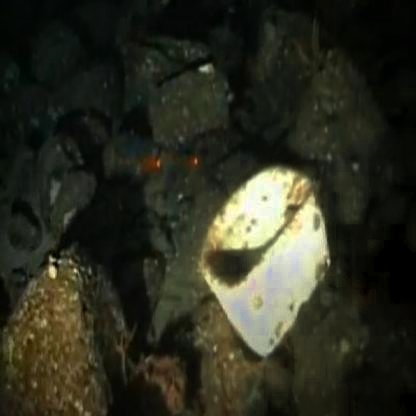plastic: (190, 152, 355, 372)
